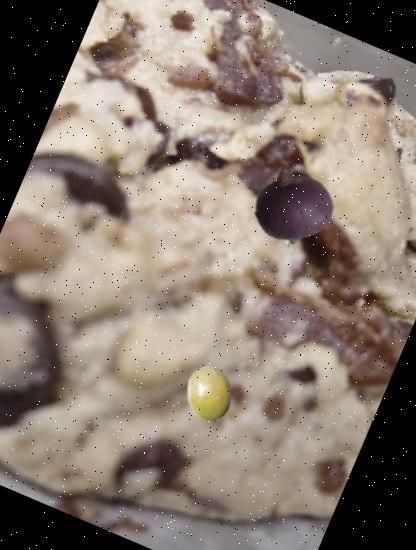Maracuja: (171, 357, 247, 433)
Onion: (235, 152, 353, 270)
